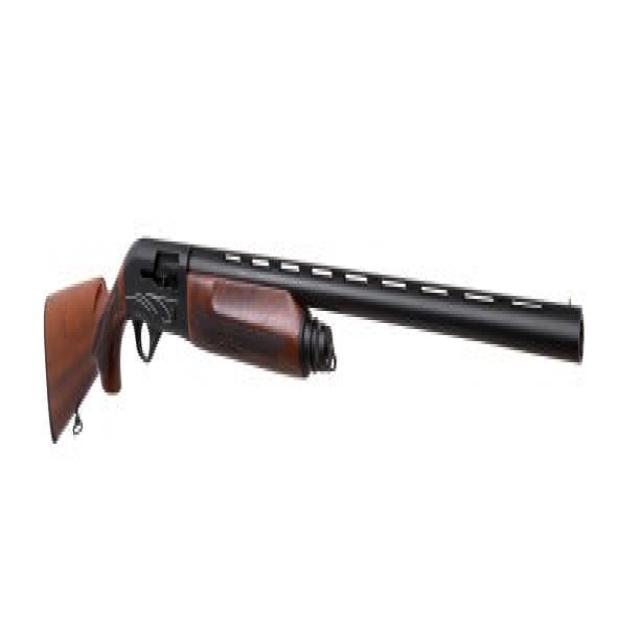rifle: (40, 230, 592, 444)
